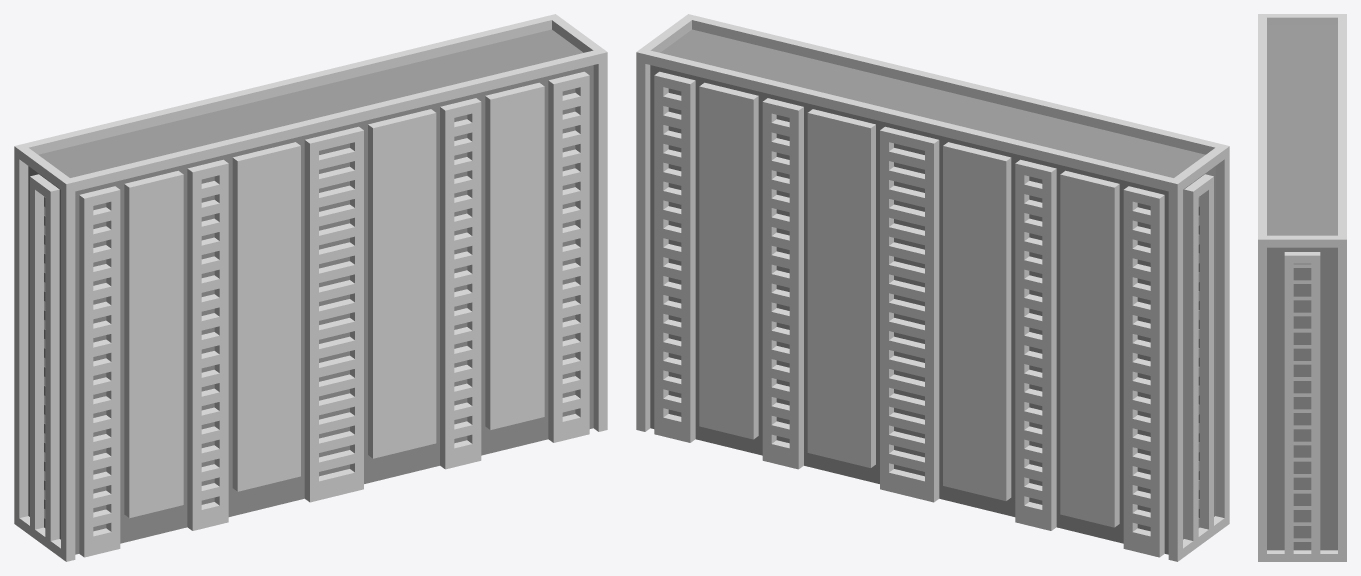
The model's file is Main Hall Wall 2.obj.
3 views of the same model, side by side, from view 1: azimuth 30°, elevation 25°; view 2: azimuth 150°, elevation 25°; view 3: azimuth 270°, elevation 25° (orthographic). The views are drawn at different scales.
Bounding box in the file's own units: 60 × 40 × 10.
1 material, 1 textured.
